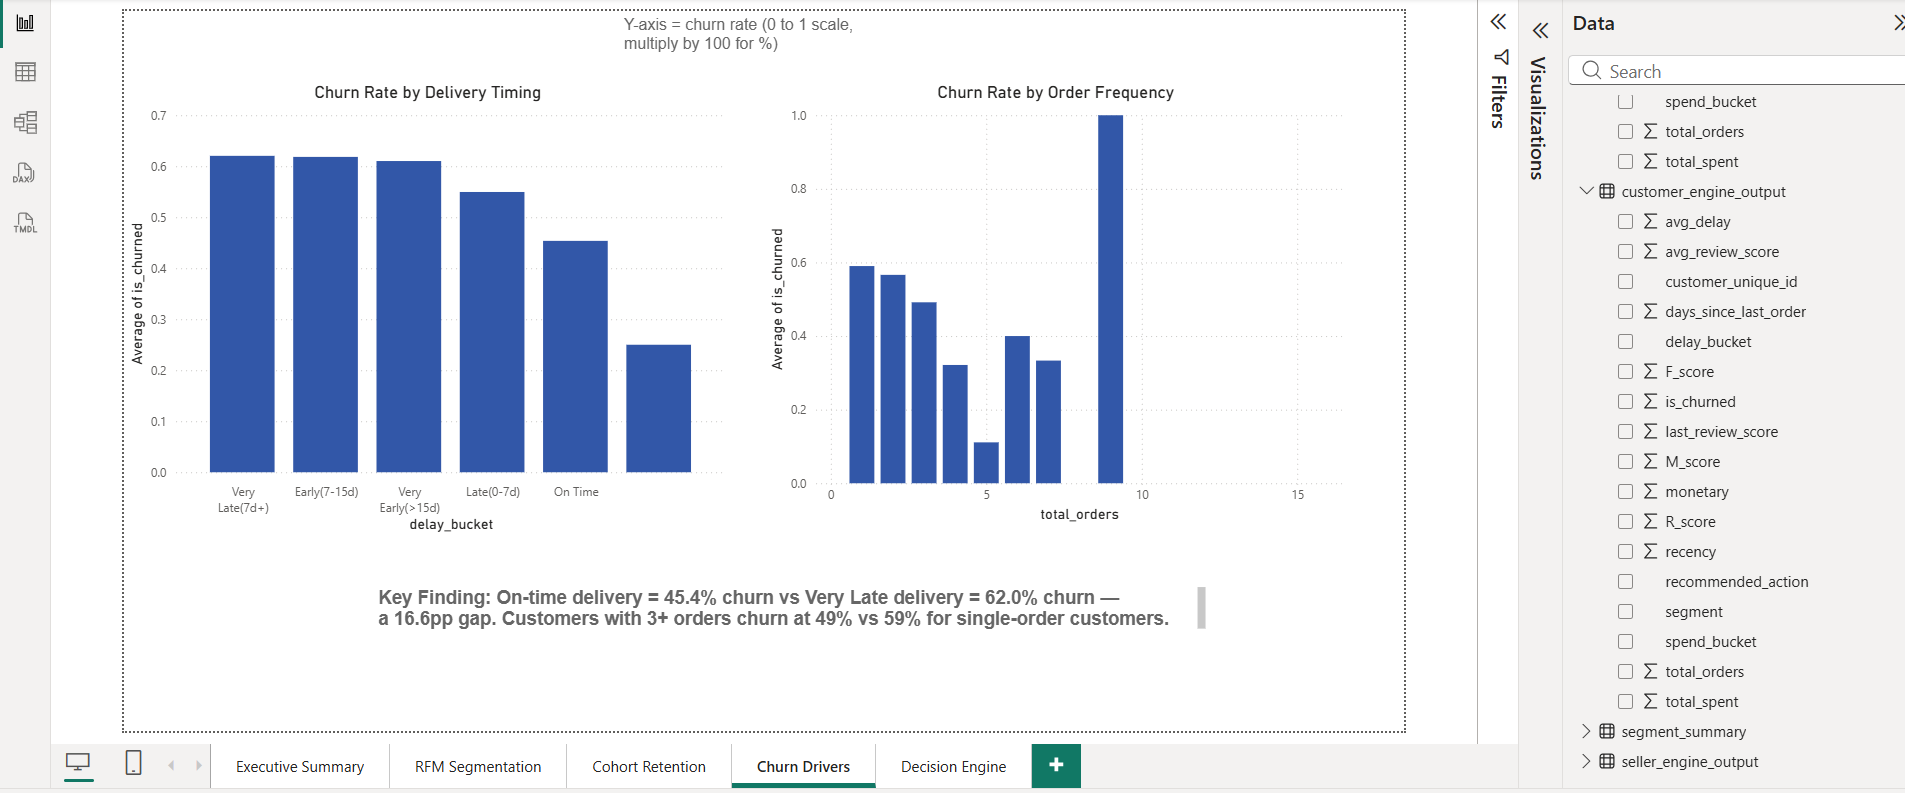

What the dashboard file says about the page in this screenshot:
{"tool":"powerbi","page":{"name":"Churn Drivers","canvas":[1280,720],"ordinal":3},"visuals":[{"type":"clusteredColumnChart","title":"Churn Rate by Delivery Timing","fields":{"Category":["customer_analysis.delay_bucket"],"Y":["Avg(customer_analysis.is_churned)"]},"box":[0,71.2,607.5,455],"z":0},{"type":"clusteredColumnChart","title":"Churn Rate by Order Frequency","fields":{"Category":["customer_analysis.total_orders"],"Y":["Avg(customer_analysis.is_churned)"]},"box":[640,71.2,583.8,445],"z":1},{"type":"textbox","box":[248.8,571.2,837.5,52.5],"z":2},{"type":"textbox","box":[495,0,248.8,53.8],"z":3}]}

Visuals, with their boxes on the page's 1280x720 design canvas (x1, y1, x2, y2). These are canvas units, not pixel positions in the 1905x793 screenshot, which may show the page scaled, cropped or inside an application window:
"Churn Rate by Delivery Timing" clusteredColumnChart: 0,71,608,526
"Churn Rate by Order Frequency" clusteredColumnChart: 640,71,1224,516
textbox: 249,571,1086,624
textbox: 495,0,744,54
